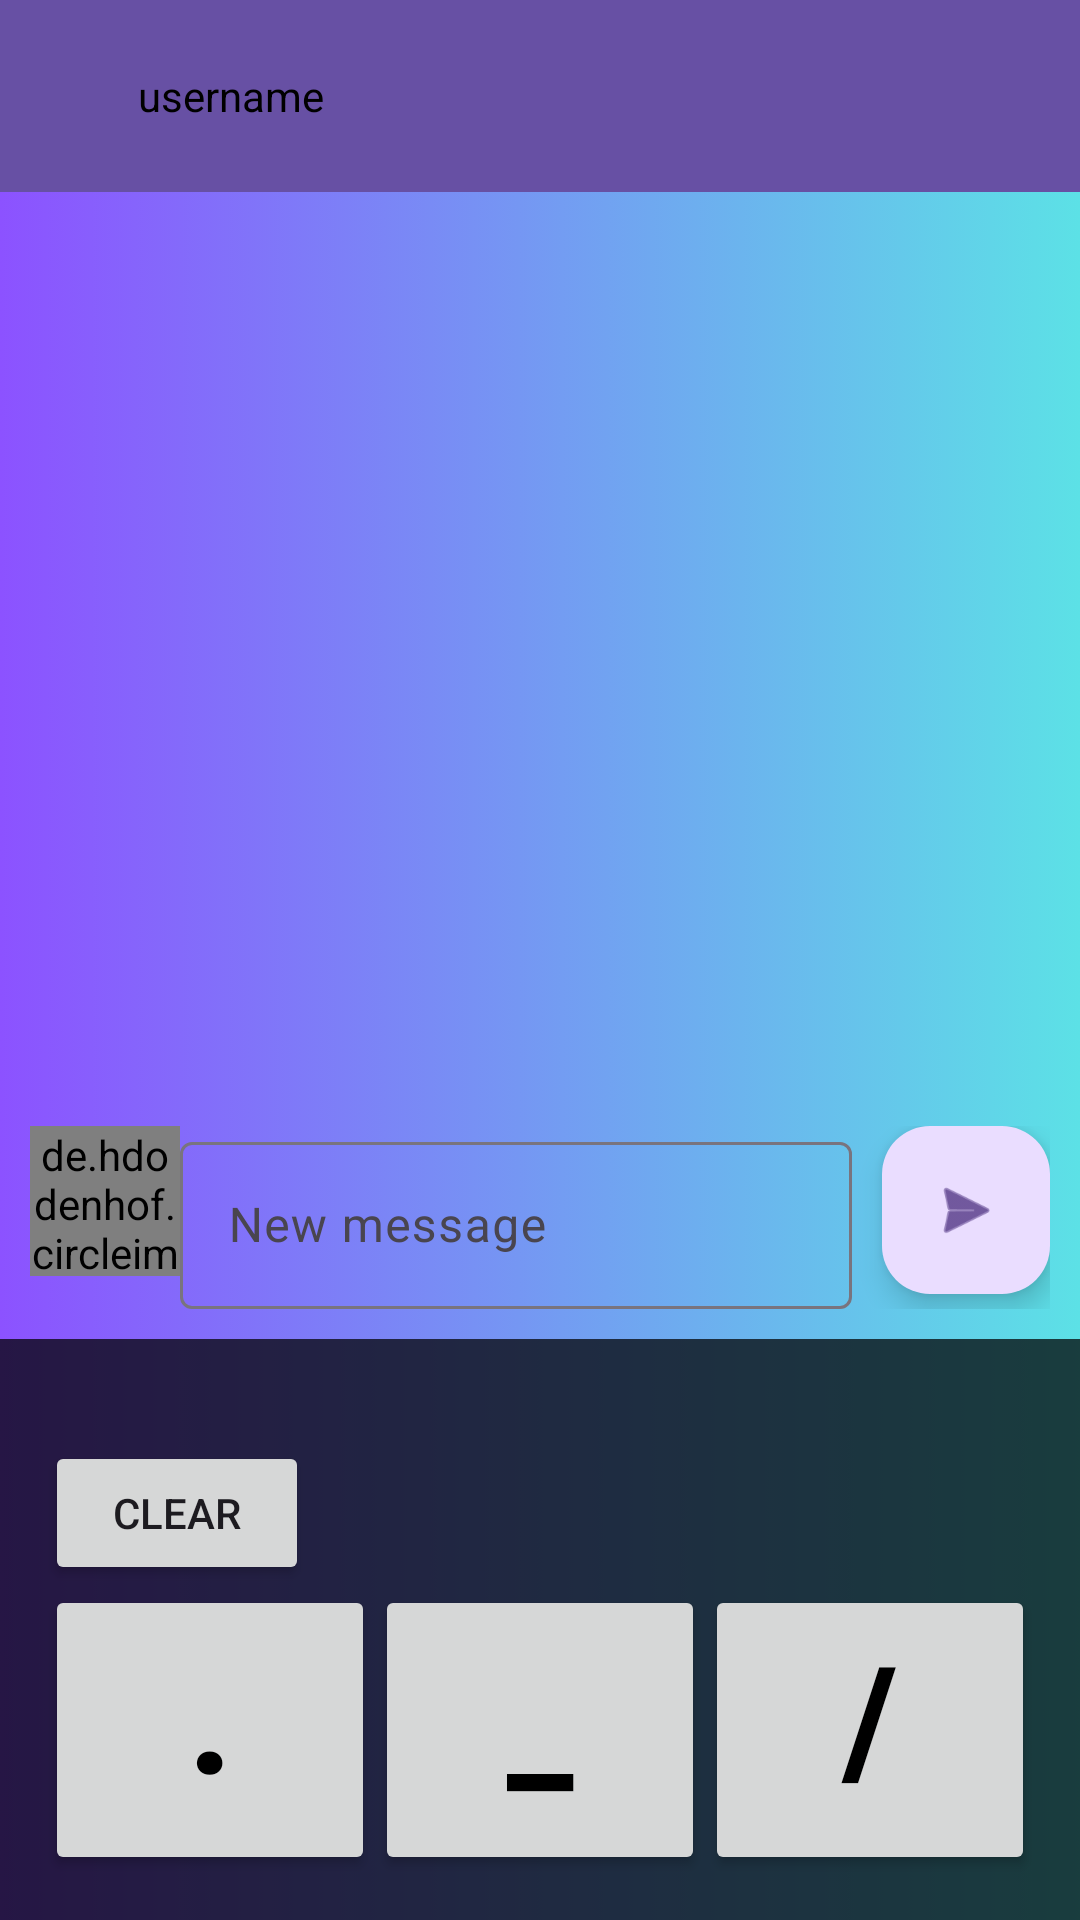

Named icons in this screenshot (1080x1920) and their centers, [x,y]:
send: [966,1210]
